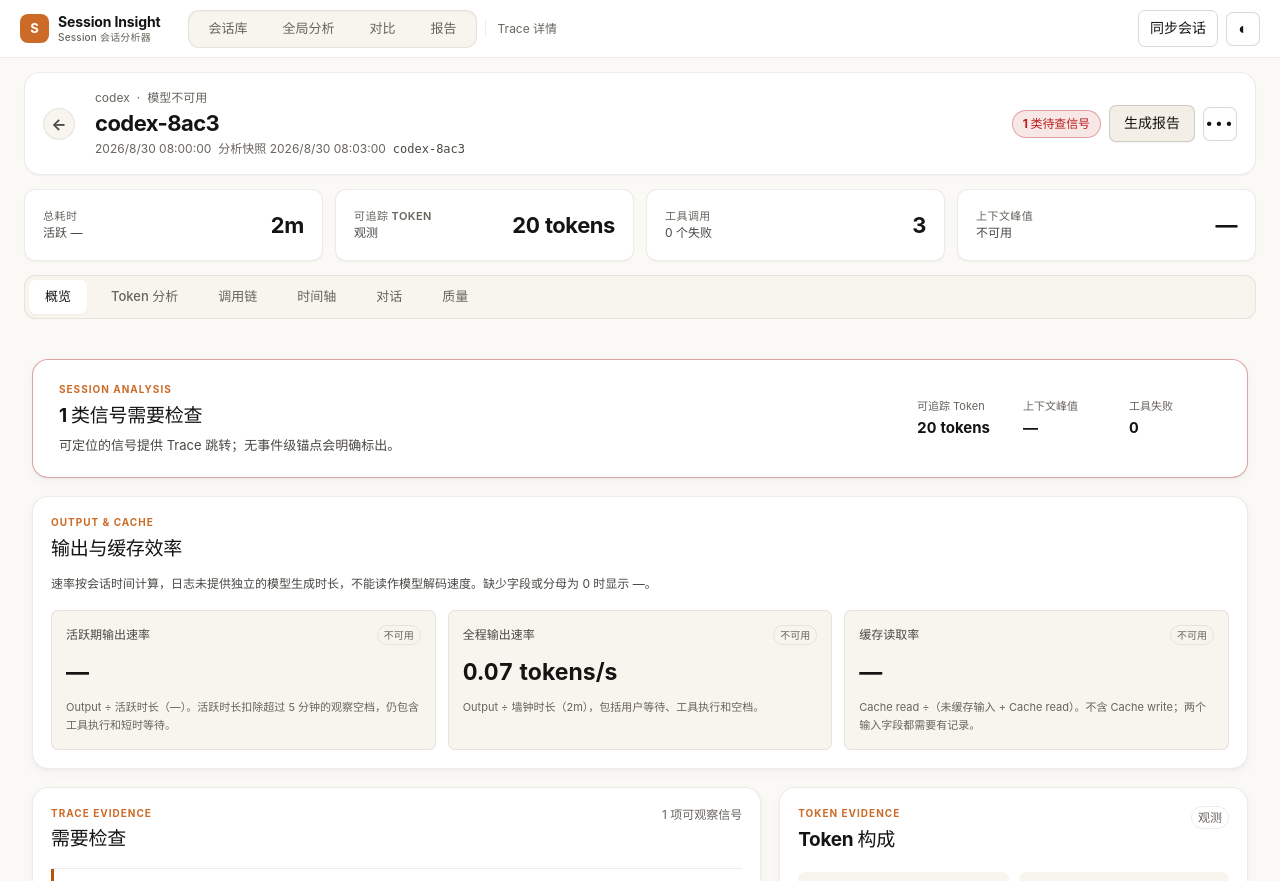
Test: Session Insight › keeps real Agent responses in Conversation while excluding model telemetry
Click the button "对话".
click(389, 297)  # box [360, 280, 418, 314]
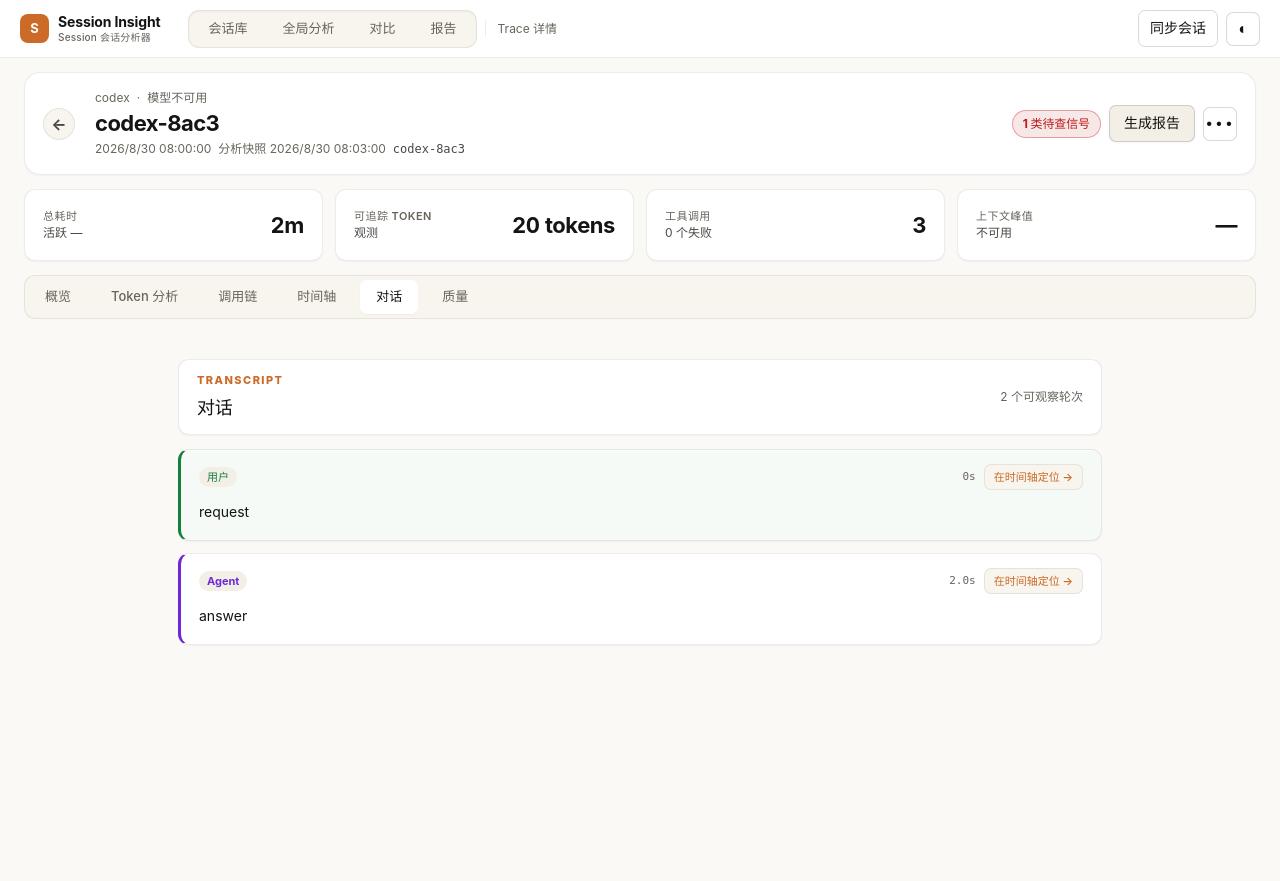
Expected: the text "request" is shown, [199, 503, 249, 520]
Expected: the text "answer" is shown, [199, 607, 247, 624]
